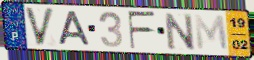3: (98, 11, 123, 48)
A: (57, 10, 93, 47)
F: (126, 11, 158, 51)
M: (193, 13, 231, 53)
N: (162, 11, 197, 51)
V: (23, 6, 56, 48)
